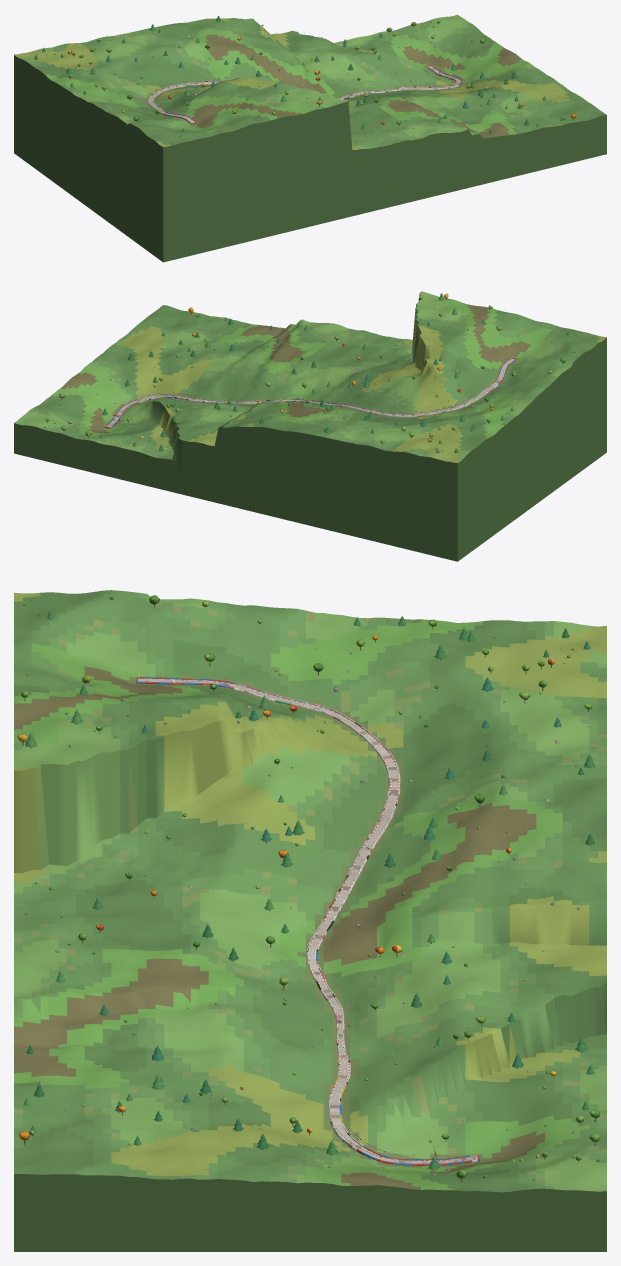
The picture shows the model from 3 angles, top to bottom: view 1: azimuth 30°, elevation 25°; view 2: azimuth 150°, elevation 25°; view 3: azimuth 270°, elevation 25°; orthographic projection. The views are drawn at different scales.
Parts seen in each view (by area): view 1: grass, pines, hay, road, leafy trees; view 2: grass, pines, hay, road, leafy trees; view 3: grass, pines, road, hay, leafy trees, markings, bushes.
Boxes of the visible parts, x1,y1,x2,y2 form: grass: (14, 14, 606, 262); pines: (34, 15, 563, 133); hay: (148, 65, 461, 124); road: (149, 66, 460, 123); leafy trees: (68, 21, 565, 124); grass: (14, 291, 606, 561); pines: (99, 293, 569, 453); hay: (104, 358, 516, 428); road: (106, 358, 515, 427); leafy trees: (46, 305, 565, 443); grass: (14, 590, 606, 1251); pines: (23, 610, 594, 1170); road: (138, 678, 478, 1163); hay: (136, 677, 479, 1165); leafy trees: (21, 595, 599, 1178); markings: (138, 678, 477, 1163); bushes: (23, 596, 599, 1180).
Bounding box in the file's own units: 575 × 153 × 335.
